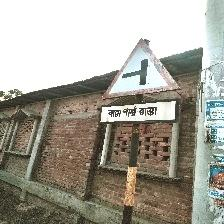Side-road-left: (101, 38, 183, 125)
